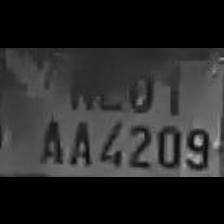0: (152, 119, 182, 169)
1: (158, 52, 188, 116)
2: (122, 118, 152, 168)
4: (93, 112, 125, 168)
9: (182, 120, 210, 170)
A: (36, 110, 64, 166), (64, 113, 92, 168)
